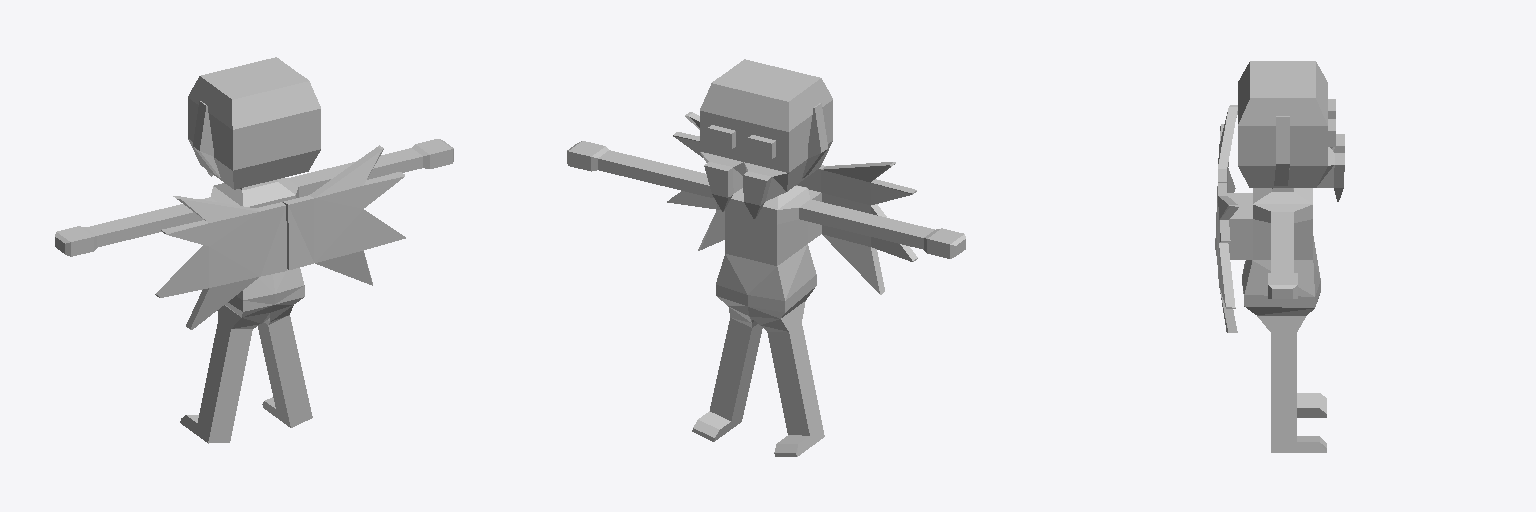
File: Ludzik.obj
The picture shows the model from 3 angles: view 1: azimuth 30°, elevation 25°; view 2: azimuth 150°, elevation 25°; view 3: azimuth 270°, elevation 25°; orthographic projection.
Visible parts, largest first — view 1: Cube; view 2: Cube; view 3: Cube.
Boxes of the visible parts, x1=… form: Cube: x1=55, y1=57, x2=453, y2=443; Cube: x1=567, y1=59, x2=965, y2=456; Cube: x1=1215, y1=61, x2=1344, y2=452.
Size of the model in its own units: 14.78 by 12.8 by 4.26.